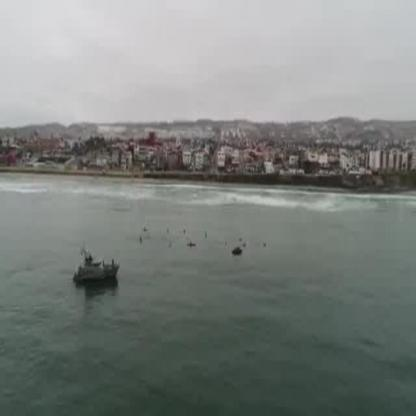Boat: (72, 245, 120, 292)
